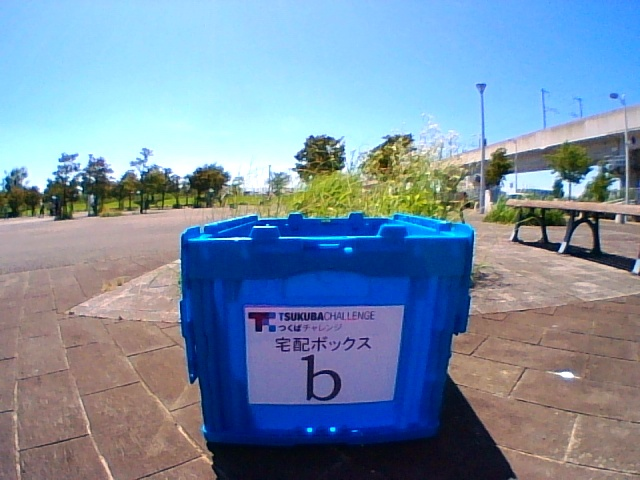blue_box: (181, 215, 475, 441)
tag_b: (249, 308, 395, 402)
